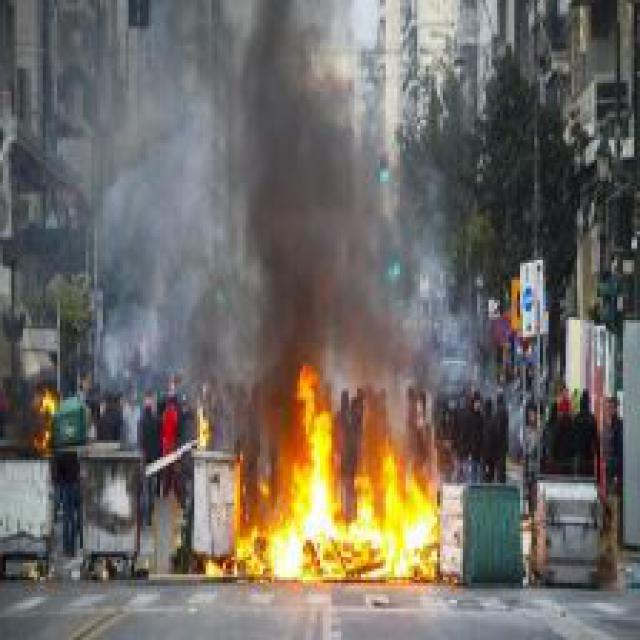fire: (220, 360, 454, 594)
